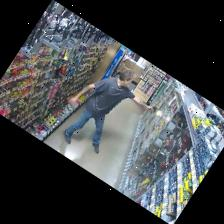person: (63, 69, 151, 153)
